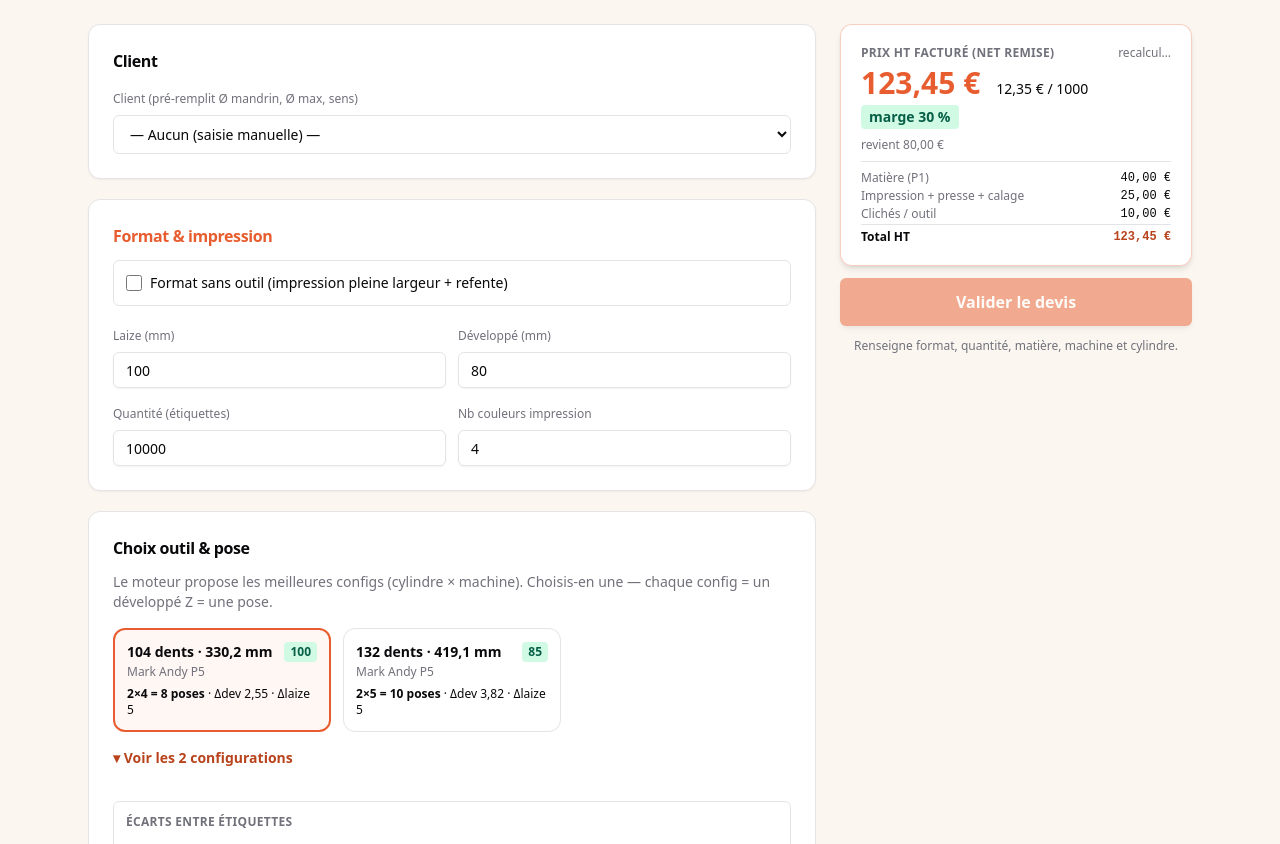
Scenario: DevisPageUnique — page devis réactive › Lot F : appro m² + plan bobines + bandeau dépassement Ø max presse
# Grosse quantité → Ø bobine dépasse la presse → bandeau visible.
Step 1. Replace the text in the number field with test id "f-qte" with "100000" → (280, 448), box [113, 430, 446, 466]
(page scrolled)
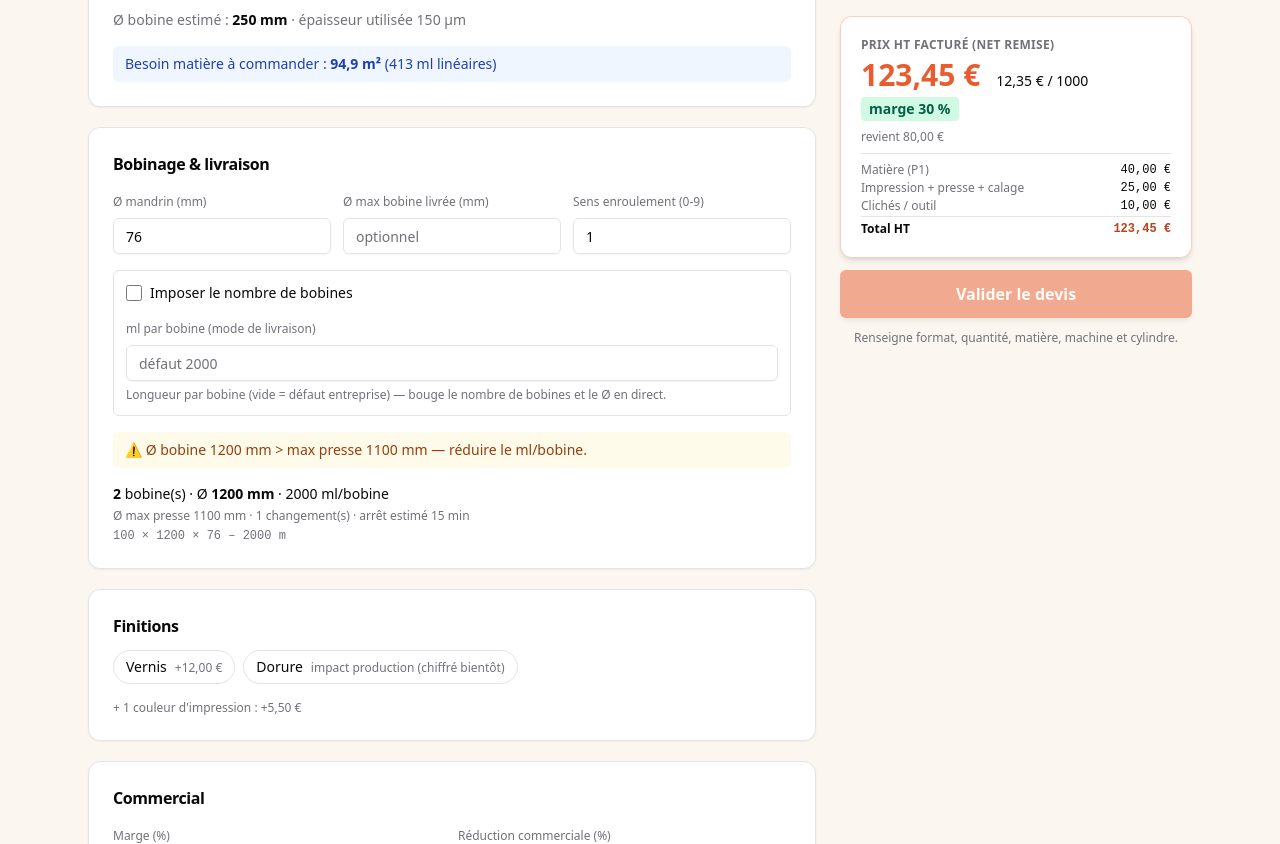
Now the text with test id "b-depasse-max" is shown, box [113, 432, 791, 468]
